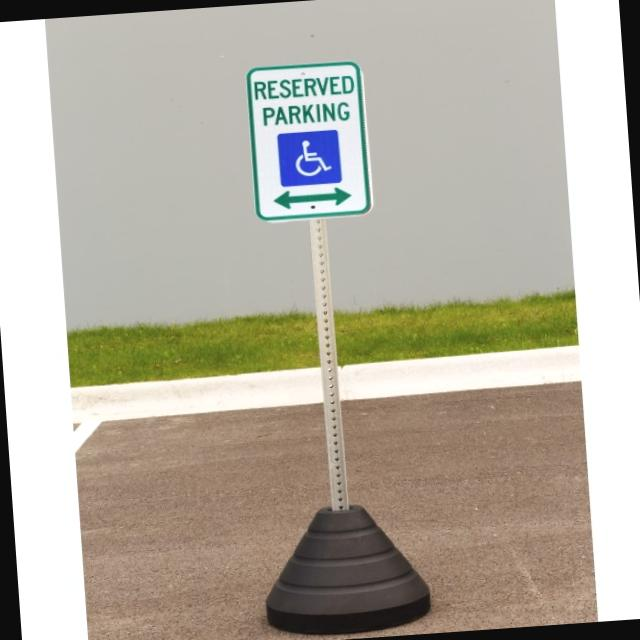symbol_of_access: (273, 126, 343, 186)
